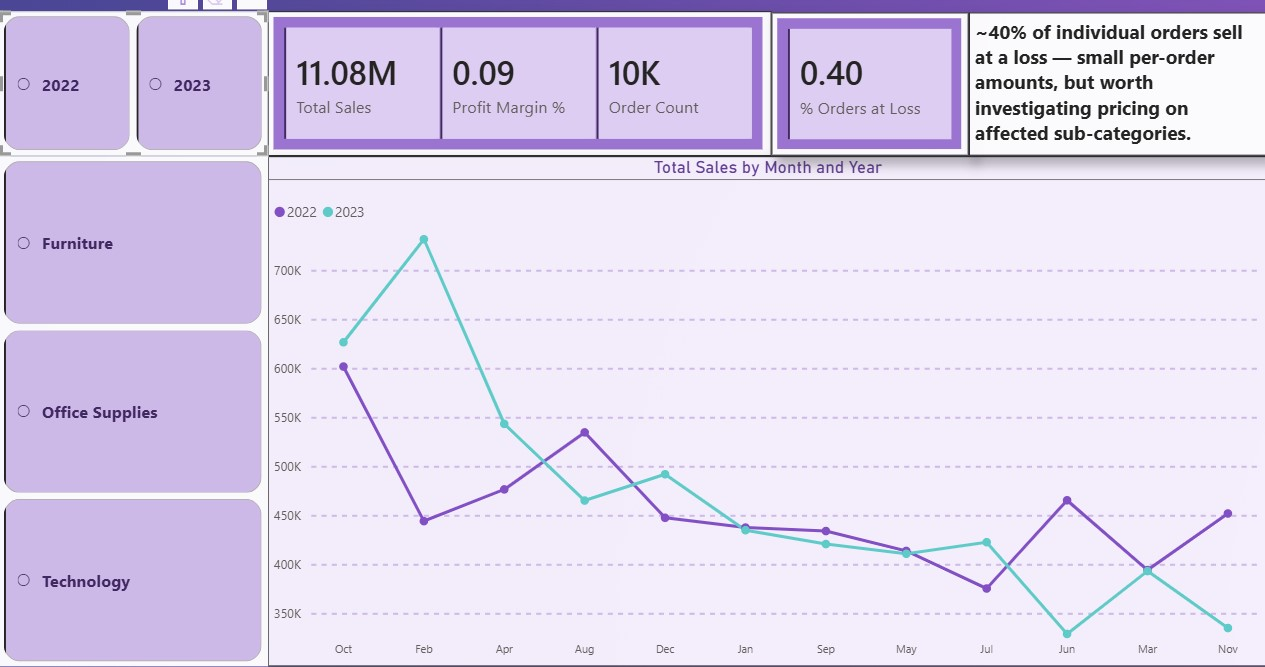

Layout of this report page (visuals, bound fields, positions):
{"tool":"powerbi","page":{"name":"Overview","canvas":[1280,720],"ordinal":0},"visuals":[{"type":"cardVisual","title":"hi","fields":{"Data":["Orders.Total Sales measure","Orders.Profit Margin %","Orders.Order Count"]},"box":[262.9,25.7,492.9,141.4],"z":0},{"type":"lineChart","fields":{"Category":["DateTable.Month"],"Y":["Orders.Total Sales"],"Series":["DateTable.Year"]},"box":[262.9,167.1,977.1,500],"z":1000},{"type":"cardVisual","title":"hi","fields":{"Data":["Orders.% Orders at Loss"]},"box":[755.7,27.1,192.9,140],"z":2000},{"type":"textbox","box":[948.6,27.1,291.4,140],"z":3000},{"type":"advancedSlicerVisual","fields":{"Values":["DateTable.Year"]},"box":[0,25.7,262.9,141.4],"z":4000},{"type":"advancedSlicerVisual","fields":{"Values":["Orders.Category"],"Label":["Min(Orders.City)"]},"box":[0,167.1,262.9,500],"z":5000}]}

Visuals, with their boxes on the page's 1280x720 design canvas (x1, y1, x2, y2). These are canvas units, not pixel positions in the 1265x667 screenshot, which may show the page scaled, cropped or inside an application window:
"hi" cardVisual: [263, 26, 756, 167]
lineChart - DateTable.Month x Orders.Total Sales: [263, 167, 1240, 667]
"hi" cardVisual: [756, 27, 949, 167]
textbox: [949, 27, 1240, 167]
advancedSlicerVisual - DateTable.Year: [0, 26, 263, 167]
advancedSlicerVisual - Orders.Category x Min(Orders.City): [0, 167, 263, 667]
